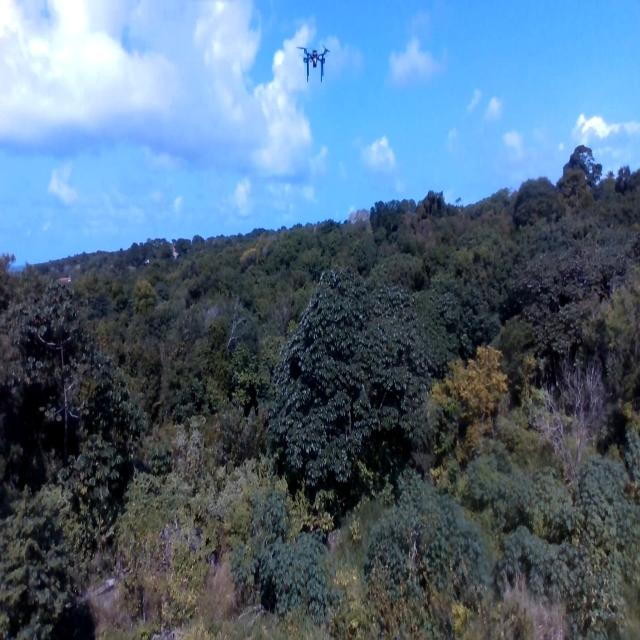-uav-: (291, 31, 333, 85)
